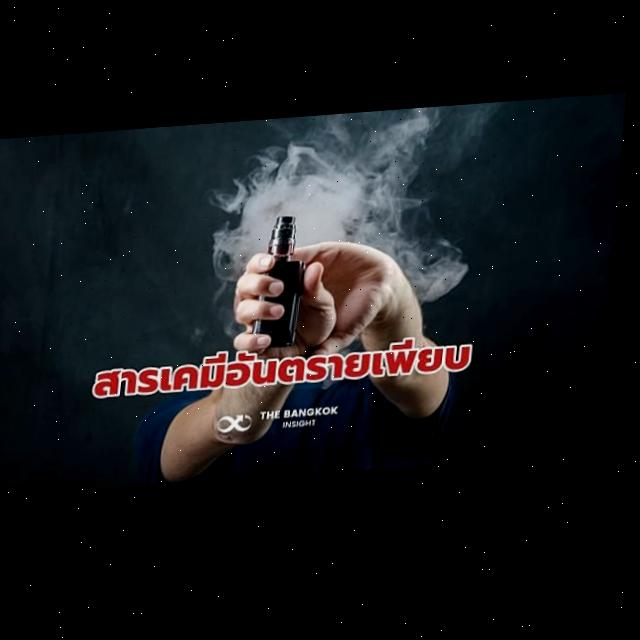vape: (258, 217, 314, 357)
